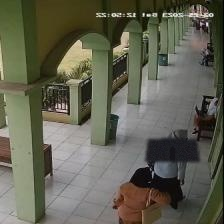Cadar_Niqab: (144, 127, 200, 161)
